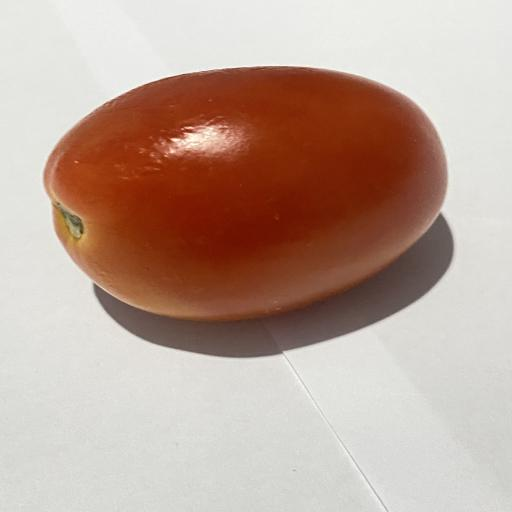overipe: (44, 67, 446, 319)
